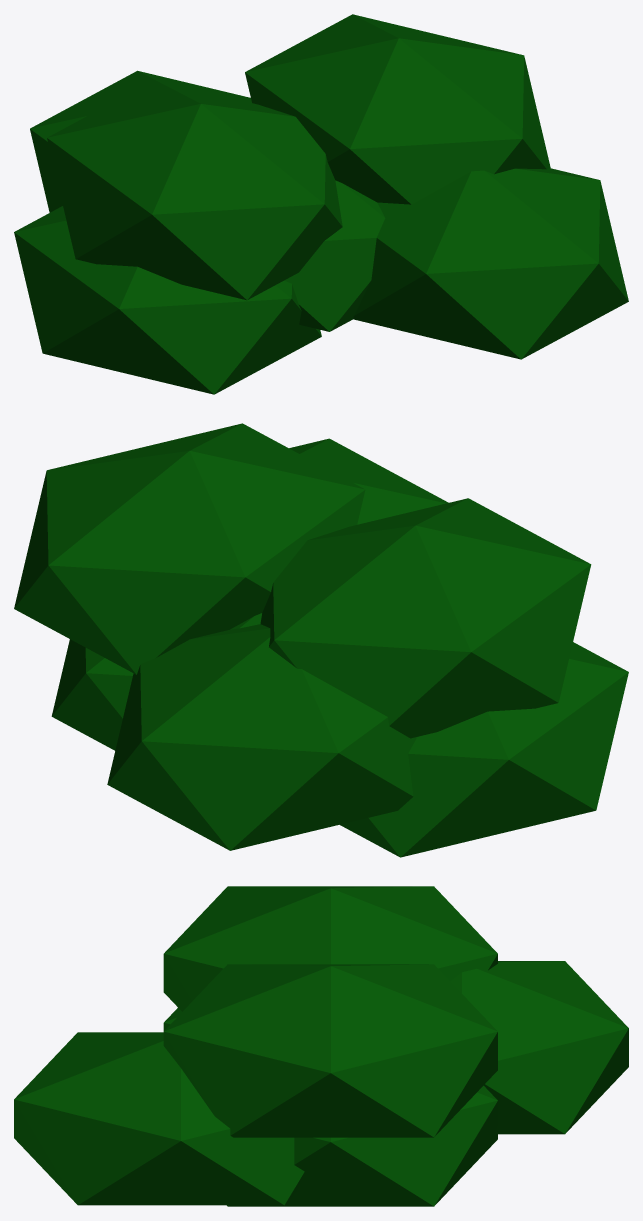
Rendered from Bushes.fbx.
3 renders of one model, top to bottom at view 1: azimuth 30°, elevation 25°; view 2: azimuth 150°, elevation 25°; view 3: azimuth 270°, elevation 25°, orthographic. The views are drawn at different scales.
Visible parts, largest first — view 1: bushes; view 2: bushes; view 3: bushes.
Part boxes in pixels (x1=…): bushes: x1=14, y1=14, x2=628, y2=394; bushes: x1=14, y1=423, x2=628, y2=857; bushes: x1=14, y1=886, x2=628, y2=1206.
Size of the model in its own units: 292 by 160 by 329.
